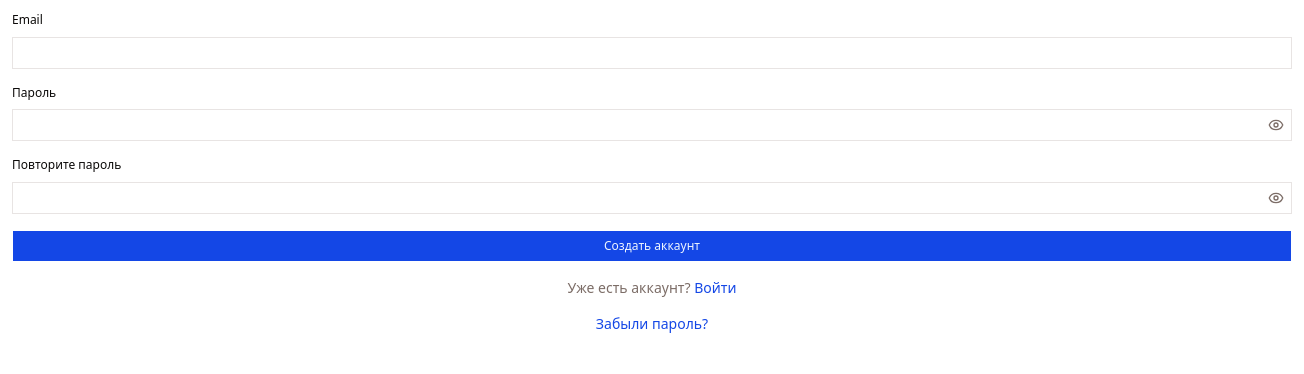
Test: RegisterForm › validates password confirmation without HTTP
Type "person@example.com" into the field labelled "Email" at [652, 52], box 12,36 -> 1292,68
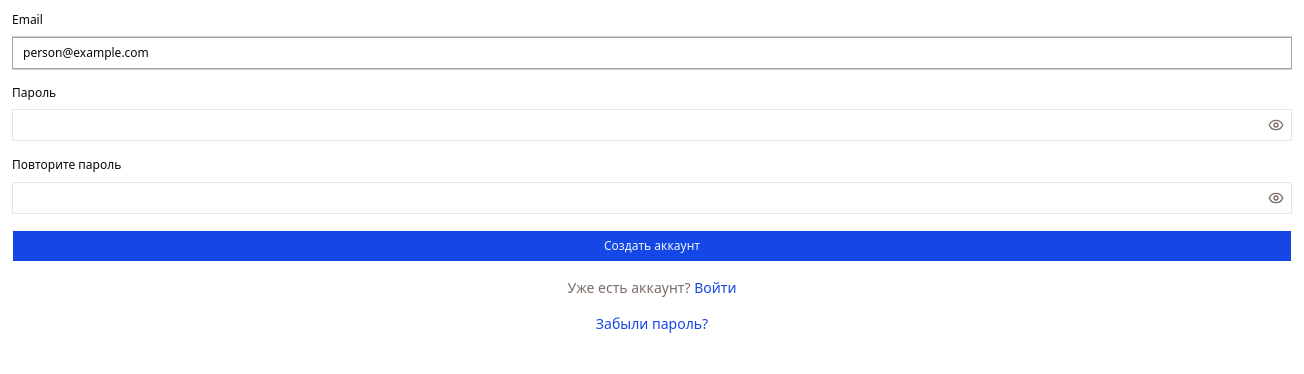
Type "long password" into the password field labelled "Пароль" at [638, 125], box 13,109 -> 1264,141
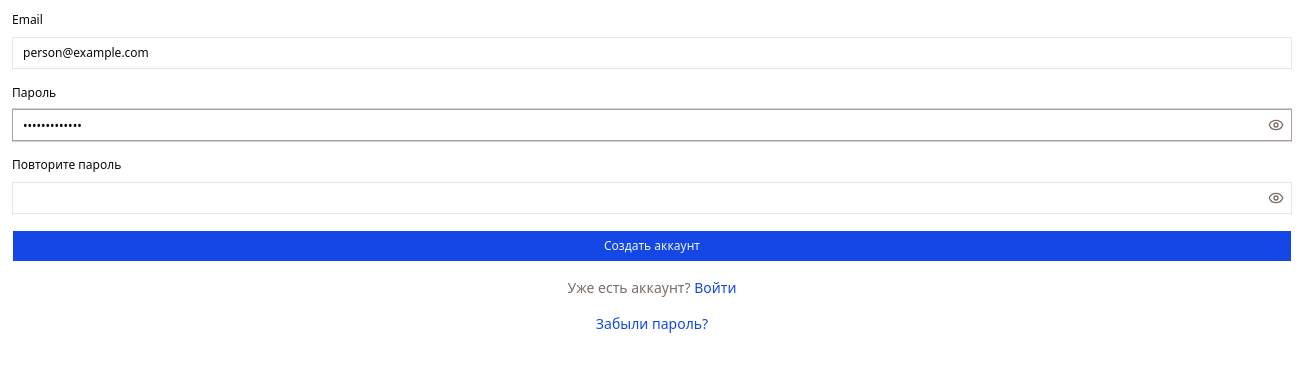
Type "different" into the password field labelled "Повторите пароль" at [638, 198], box 13,182 -> 1264,214
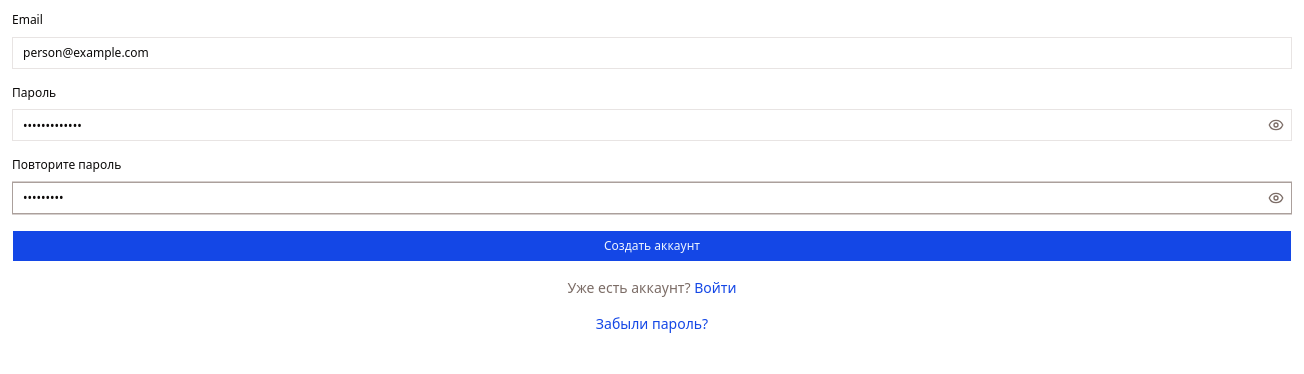
Click the button named "Создать аккаунт" at [652, 246], box 12,230 -> 1292,262
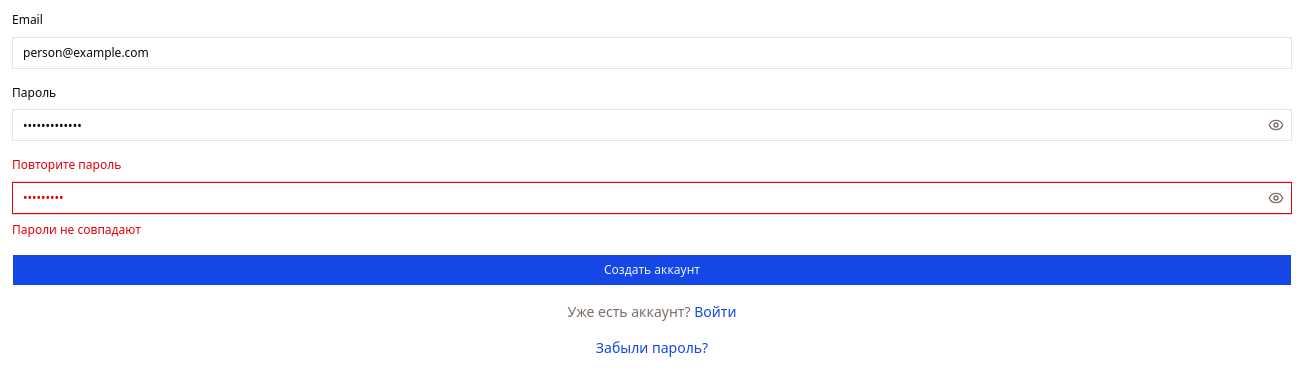
Now the text "Пароли не совпадают" is shown, box 12,220 -> 141,238
